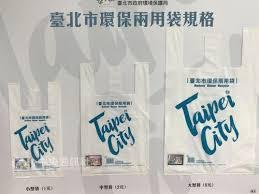Plastic bag: (166, 21, 259, 184), (74, 52, 156, 184), (5, 69, 65, 184)
